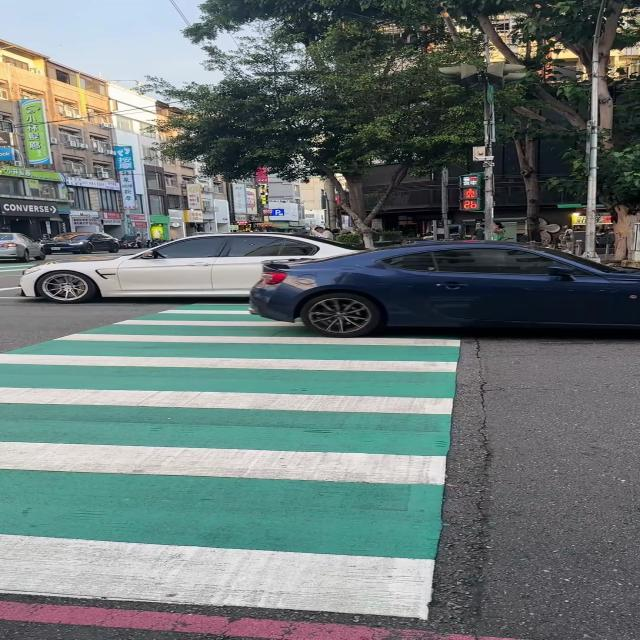car: (249, 241, 640, 336), (20, 232, 353, 302), (44, 232, 119, 254), (0, 232, 44, 261)
crosswalk: (0, 301, 460, 620), (0, 264, 35, 272)
pedestrian: (490, 222, 507, 241), (313, 226, 335, 240)
